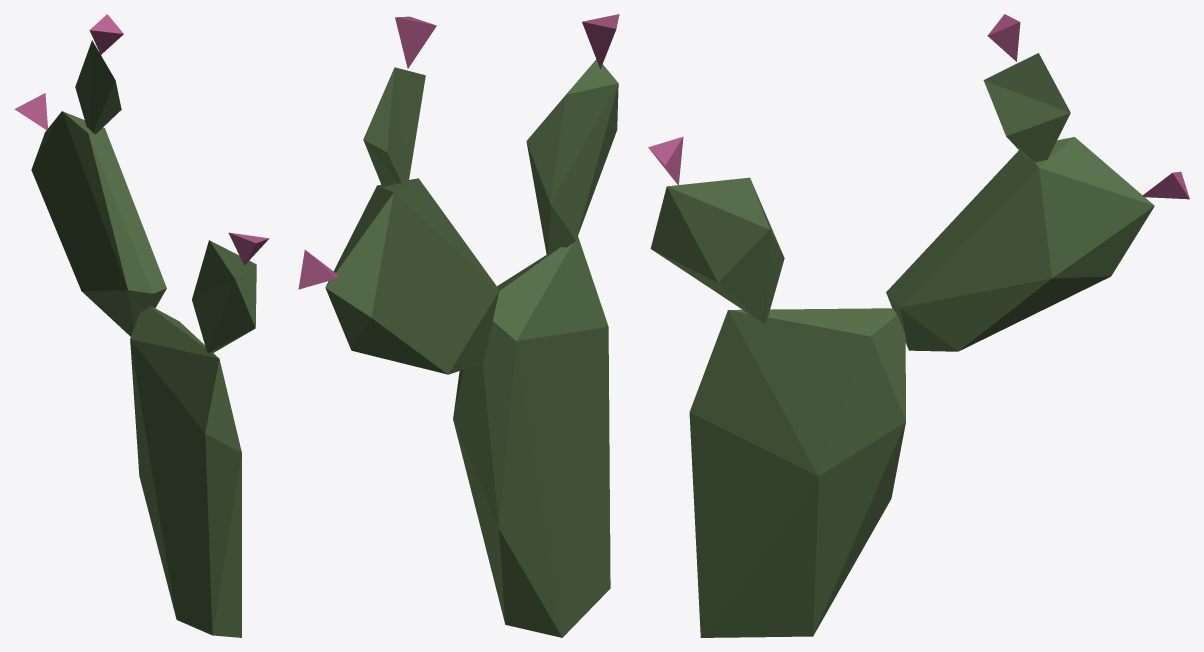
Rendered from CactusFlowers_5.lod3.glb.
The picture shows the model from 3 angles, left to right: view 1: azimuth 30°, elevation 25°; view 2: azimuth 150°, elevation 25°; view 3: azimuth 270°, elevation 25°; orthographic projection. The views are drawn at different scales.
Visible parts, largest first — view 1: CactusFlowers_5; view 2: CactusFlowers_5; view 3: CactusFlowers_5.
Part boxes in pixels (x1,y1,x2,y2): CactusFlowers_5: (14,14,269,637); CactusFlowers_5: (298,14,619,637); CactusFlowers_5: (648,14,1189,637).
Bounding box in the file's own units: 0.1175 × 0.9282 × 0.7342.
